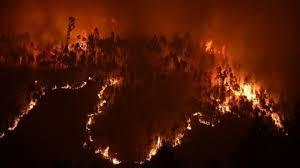fire: (196, 39, 283, 128), (82, 74, 122, 146), (144, 120, 193, 162), (1, 93, 37, 137), (34, 74, 88, 93), (94, 145, 119, 165)
